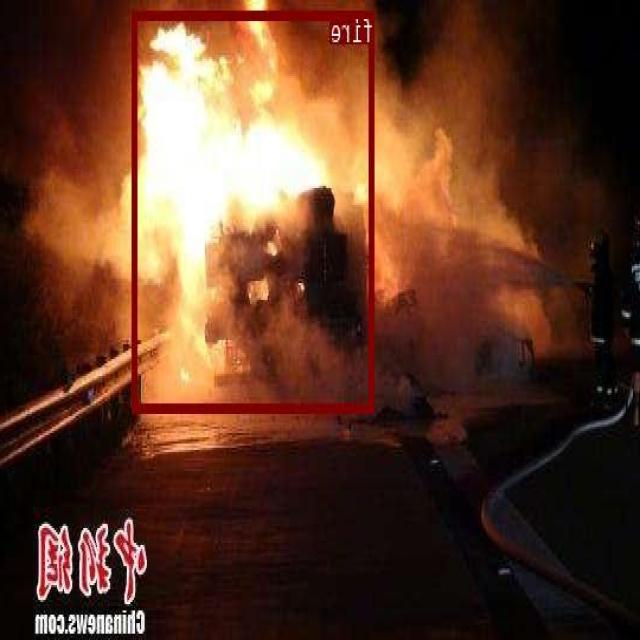fire: (134, 10, 376, 411)
